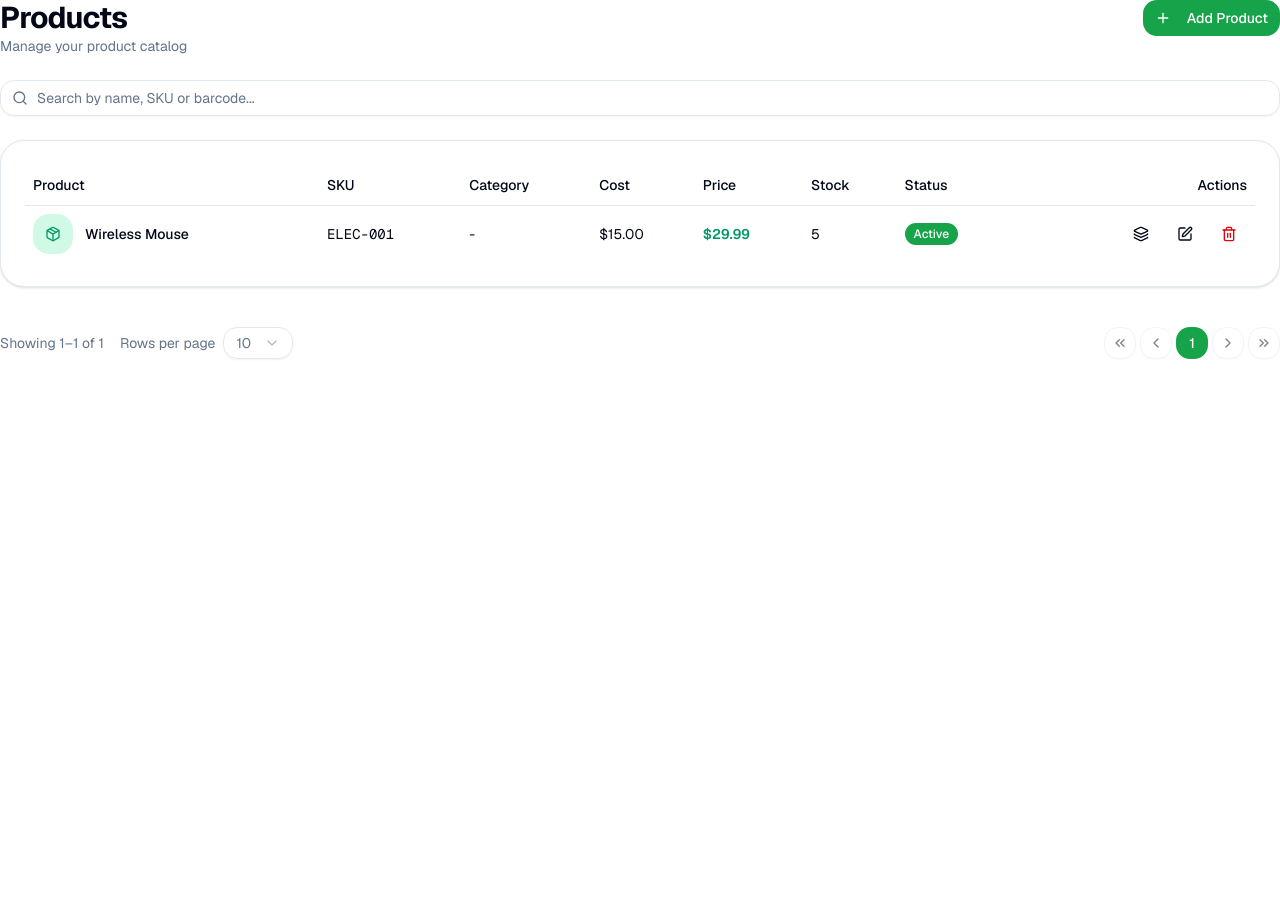
Test case: SKU suggestion › the Regenerate button re-derives the SKU from the current name and resumes autofill
The width and height of the screenshot is (1280, 900).
Click the button "Add Product" at (1211, 18), box x1=1143 y1=0 x2=1279 y2=36
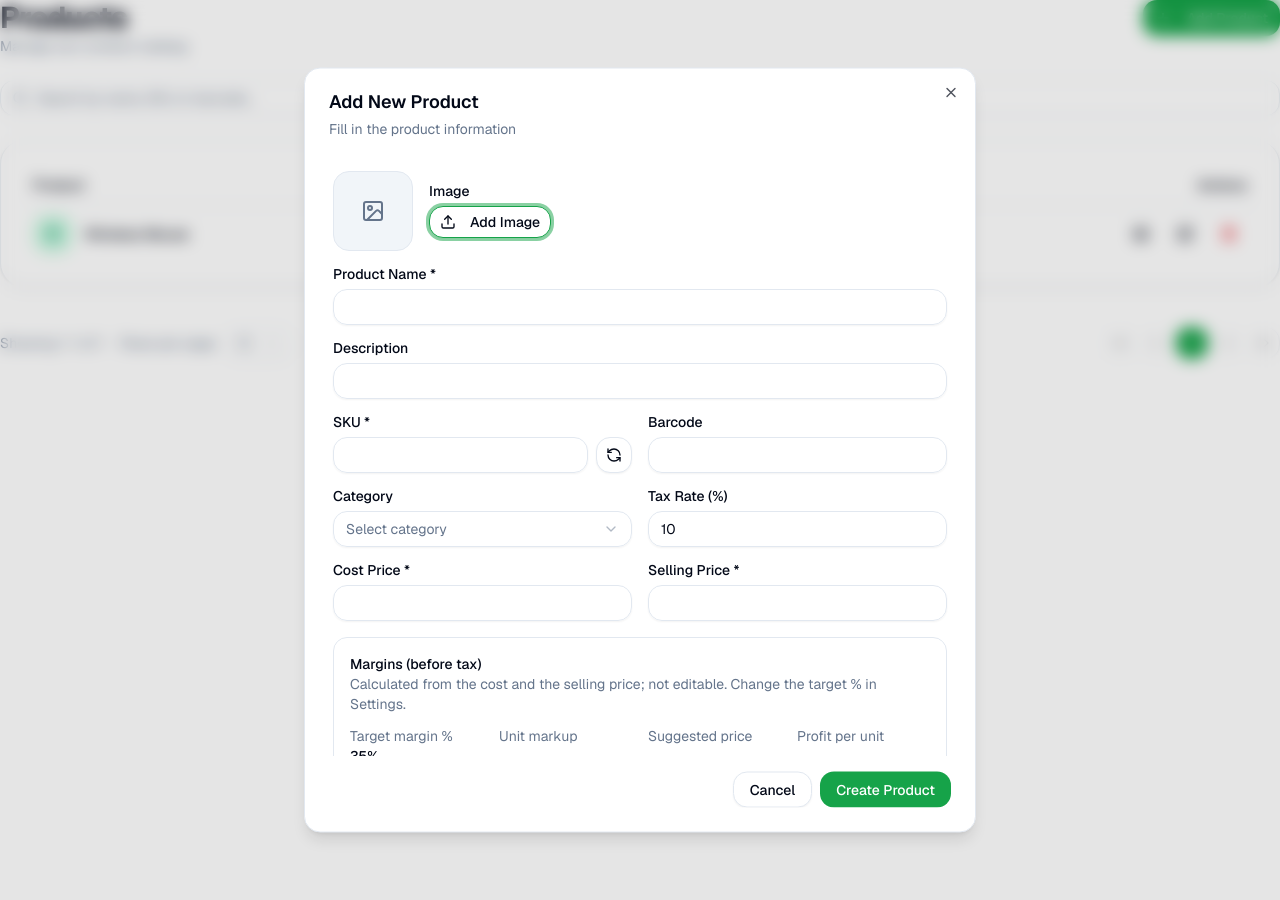
Type "Cerveza Club" into the field labelled "Product Name *" at (640, 306), box x1=333 y1=288 x2=947 y2=324
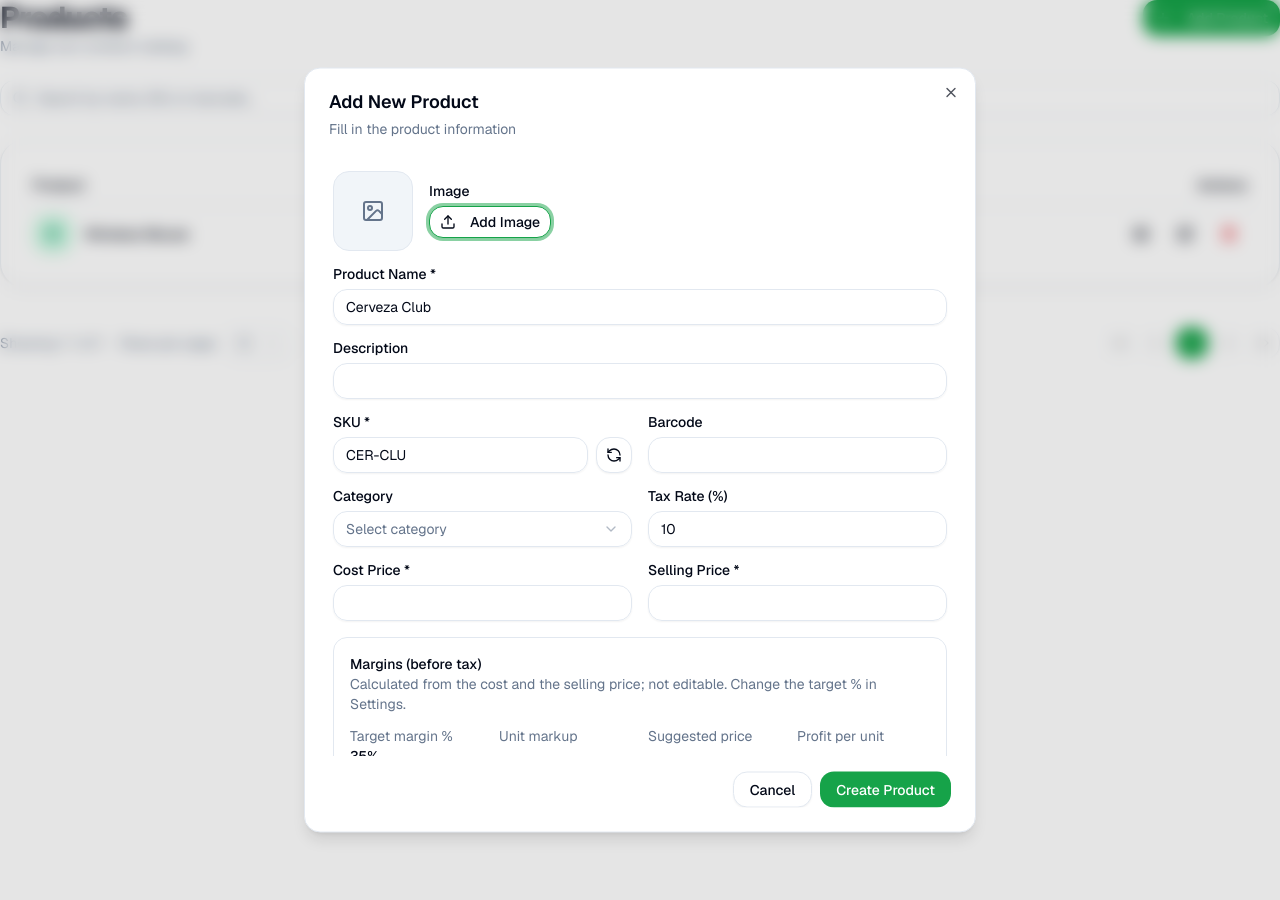
Replace the text in the field labelled "SKU *" with "CUSTOM-SKU" at (460, 454), box x1=333 y1=436 x2=588 y2=472
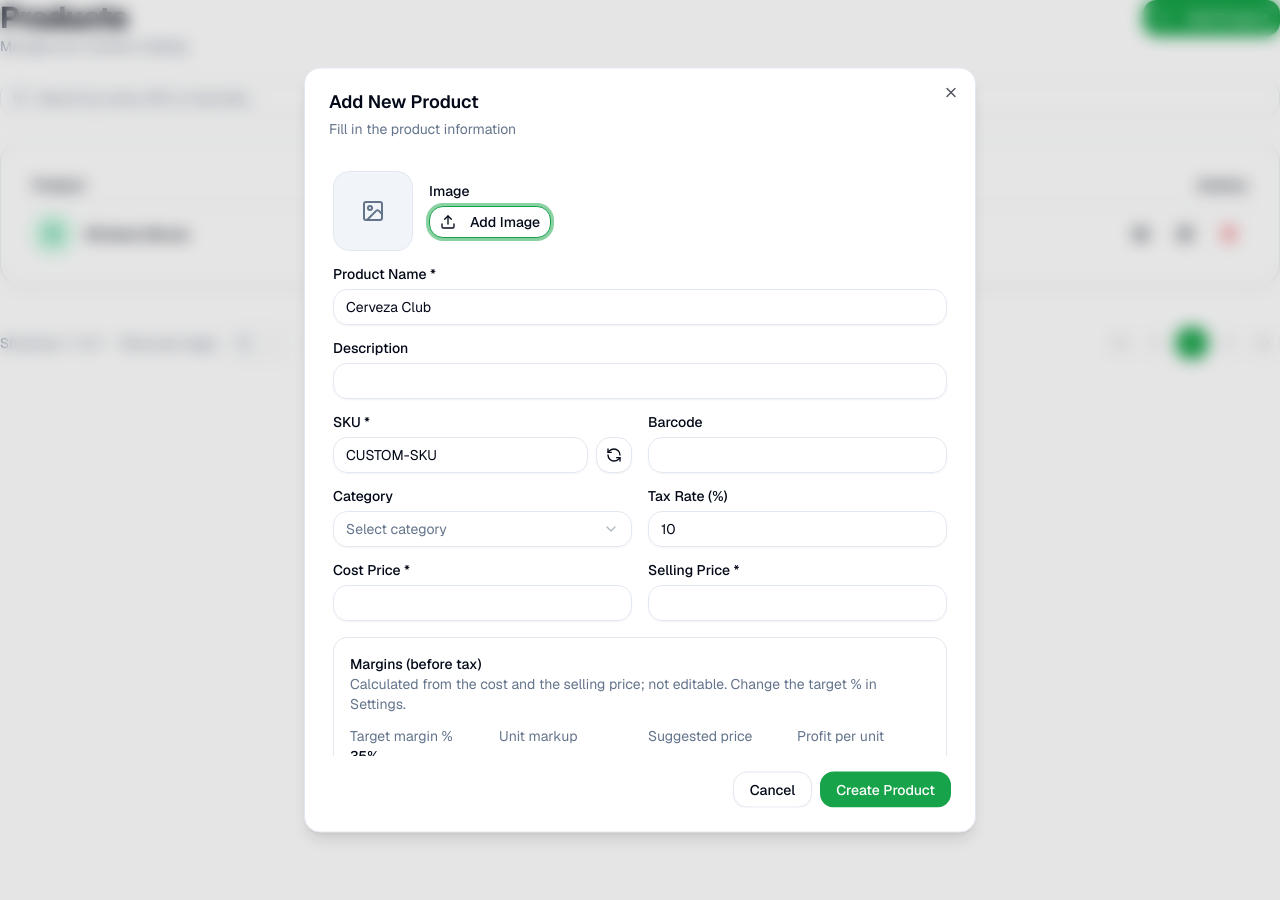
Click the button named "Regenerate" at (614, 454), box x1=596 y1=436 x2=632 y2=472
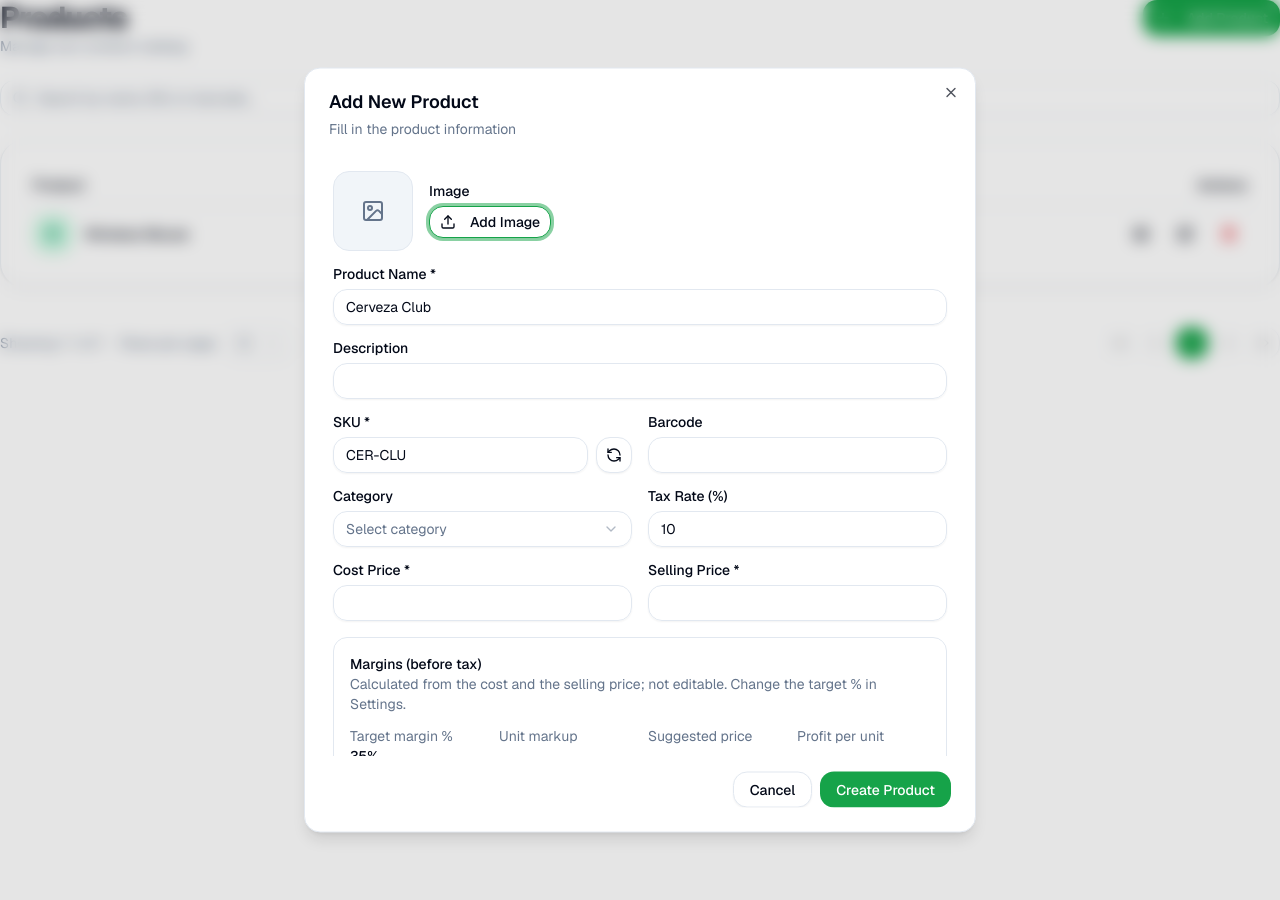
Expected: the field labelled "SKU *" holds "CER-CLU", x1=333 y1=436 x2=588 y2=472
Replace the text in the field labelled "Product Name *" with "Cerveza Club Colombia" at (640, 306), box x1=333 y1=288 x2=947 y2=324
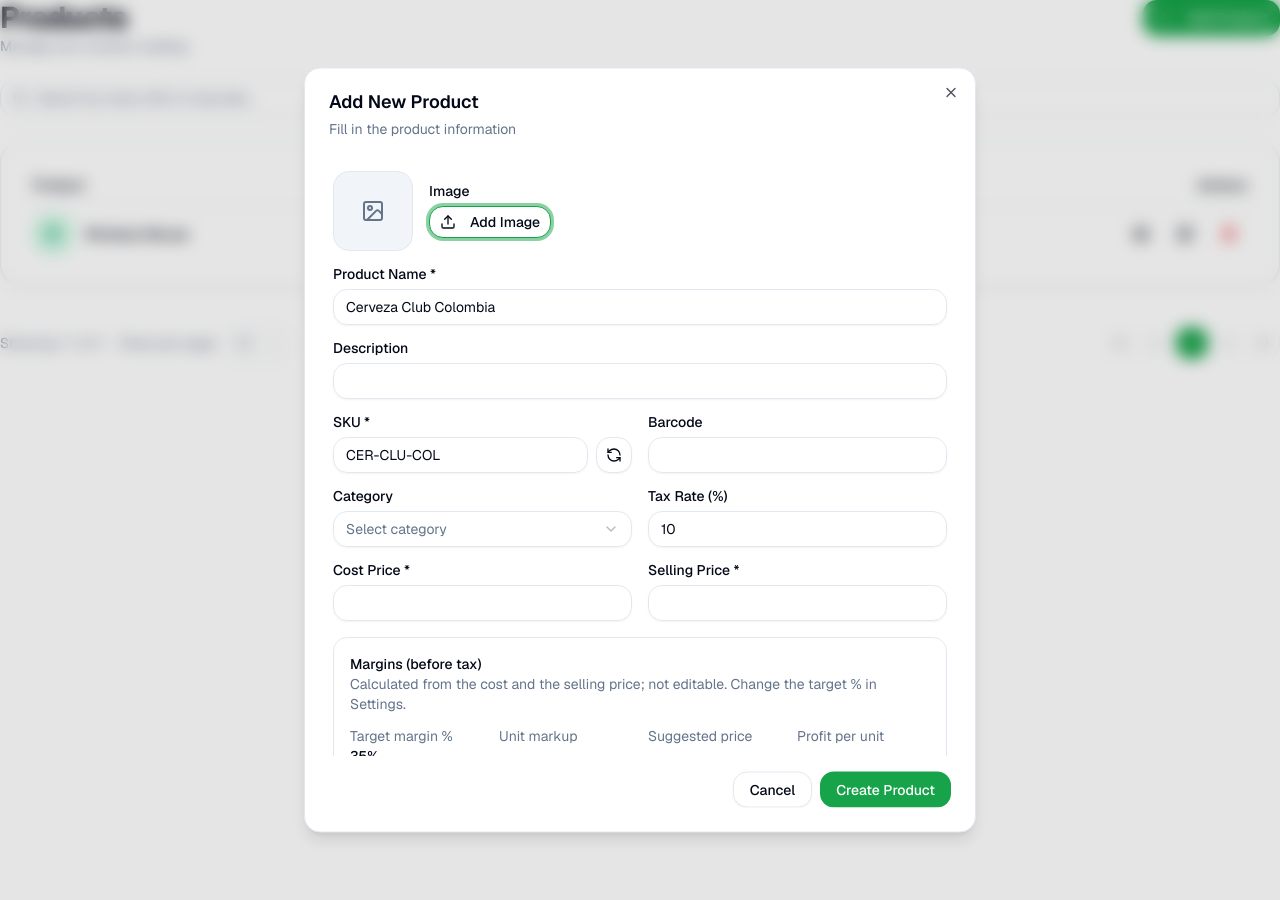
Expected: the field labelled "SKU *" holds "CER-CLU-COL", x1=333 y1=436 x2=588 y2=472
